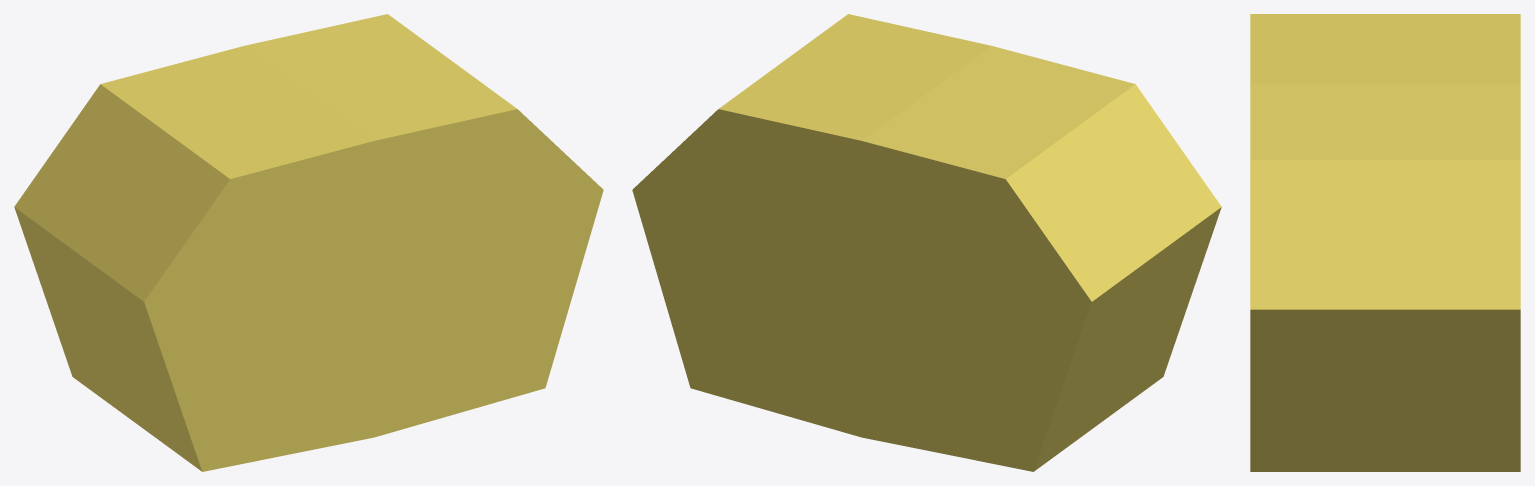
The model's file is stripe.fbx.
3 views of the same model, side by side, from view 1: azimuth 30°, elevation 25°; view 2: azimuth 150°, elevation 25°; view 3: azimuth 270°, elevation 25° (orthographic). The views are drawn at different scales.
Parts seen in each view (by area): view 1: Stripe; view 2: Stripe; view 3: Stripe.
Part boxes in pixels (<box>): Stripe: <box>14,14,603,471</box>; Stripe: <box>632,14,1221,471</box>; Stripe: <box>1250,14,1520,471</box>.
Bounding box in the file's own units: 253 × 156 × 124.
